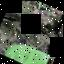Morning glory: (0, 22, 59, 64)
